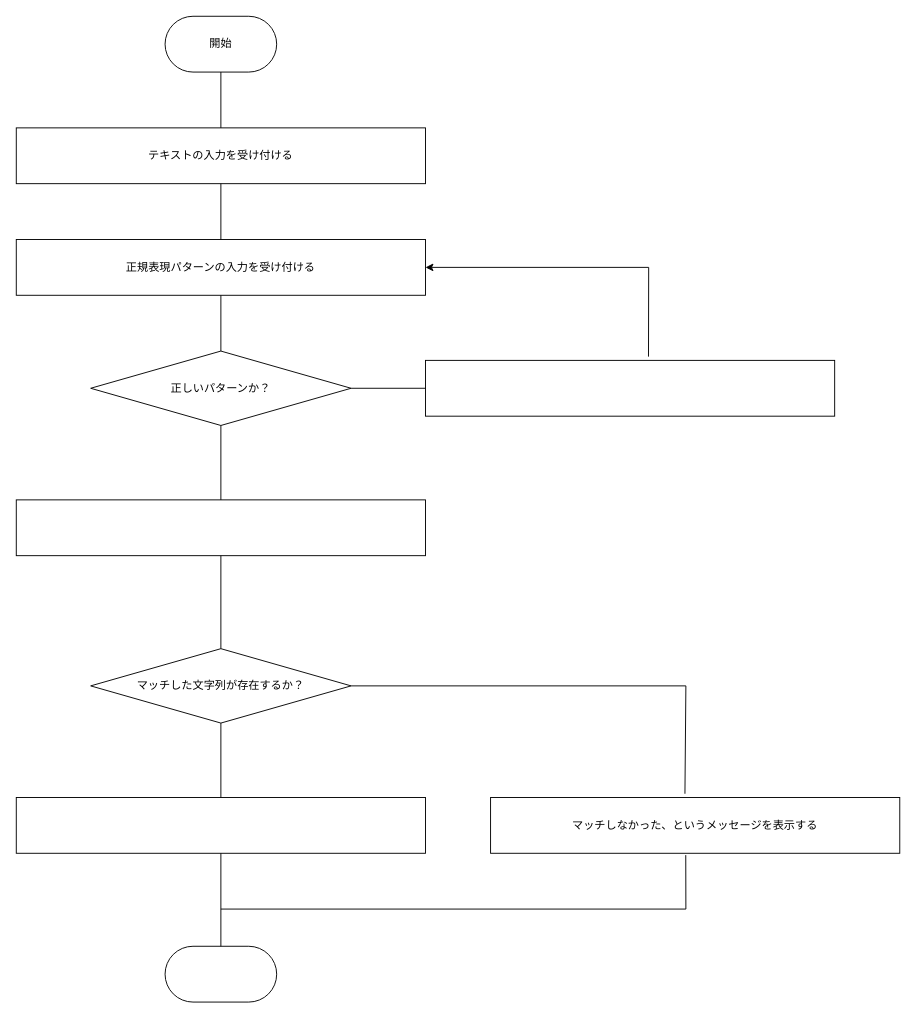
The diagram is 916 pixels wide and 1018 high, and some of its shapes have lost their labels. Each missing label, with the centre of its shape:
"エラーメッセージを表示する" belongs at point 630,387.
"マッチした文字列を表示する" belongs at point 220,825.
"待ちした文字列を取得する" belongs at point 220,527.
